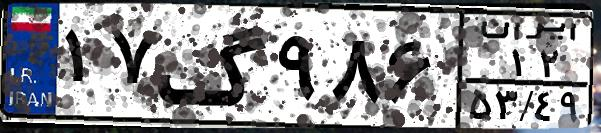1: (57, 26, 110, 100), (508, 27, 537, 80)
2: (537, 27, 568, 80)
3: (495, 70, 520, 125)
4: (535, 70, 560, 125)
5: (470, 70, 495, 125)
6: (385, 28, 445, 110)
7: (110, 28, 156, 98)
8: (330, 28, 385, 110)
9: (270, 28, 330, 110), (560, 70, 590, 125)
گ: (156, 12, 270, 120)
